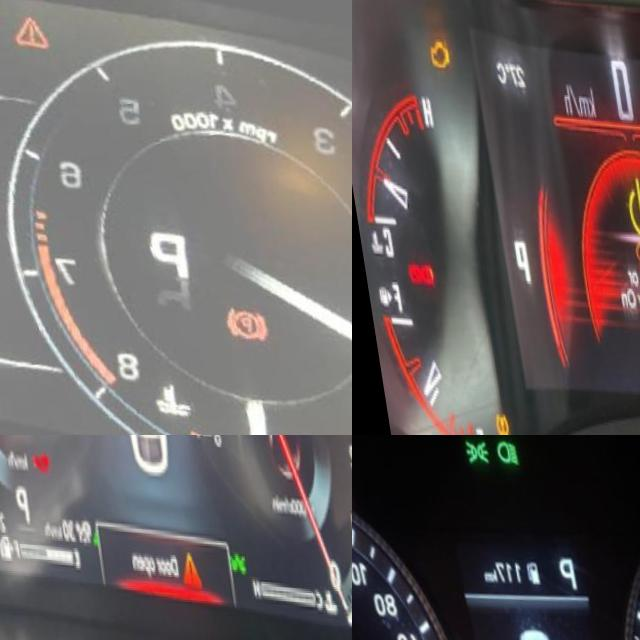Engine cooling system: (126, 367, 186, 427)
Low beam: (489, 435, 522, 468)
